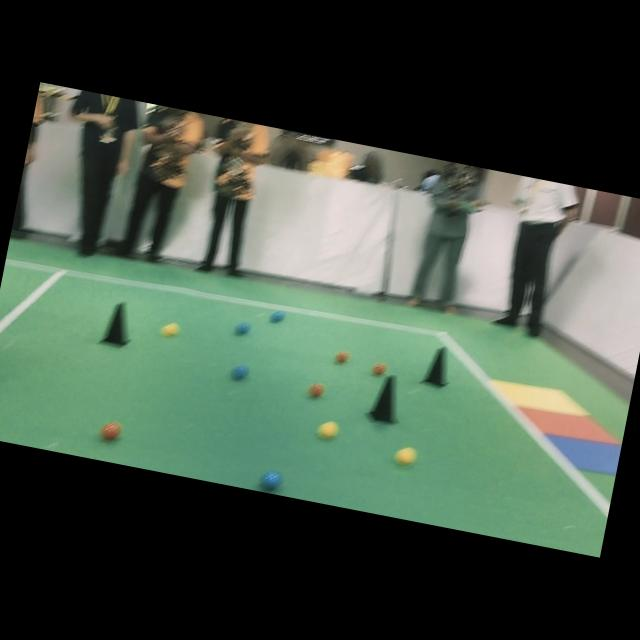ball: (260, 471, 283, 491), (100, 422, 121, 441), (395, 448, 417, 465), (318, 421, 339, 438), (231, 365, 249, 380), (161, 323, 180, 337), (308, 383, 325, 398), (371, 363, 388, 376), (235, 322, 251, 335), (335, 351, 350, 363), (270, 311, 285, 323)
goal: (521, 408, 618, 445), (492, 380, 588, 417), (548, 435, 621, 475)
